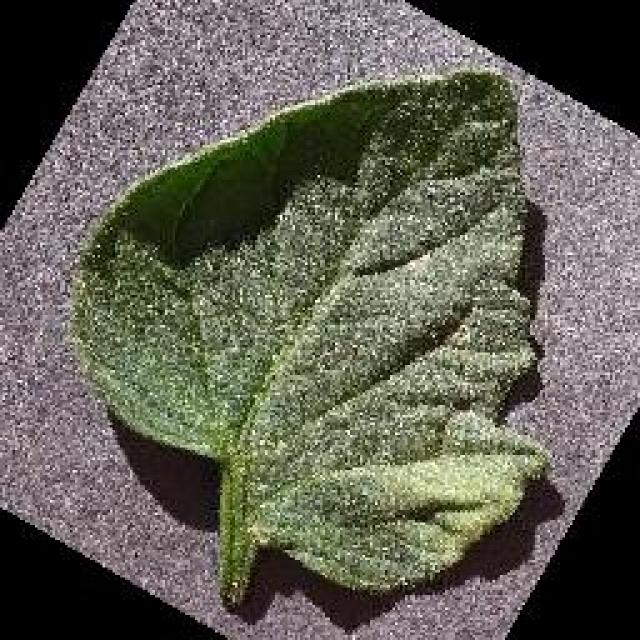Tomato___healthy: (66, 67, 552, 606)
